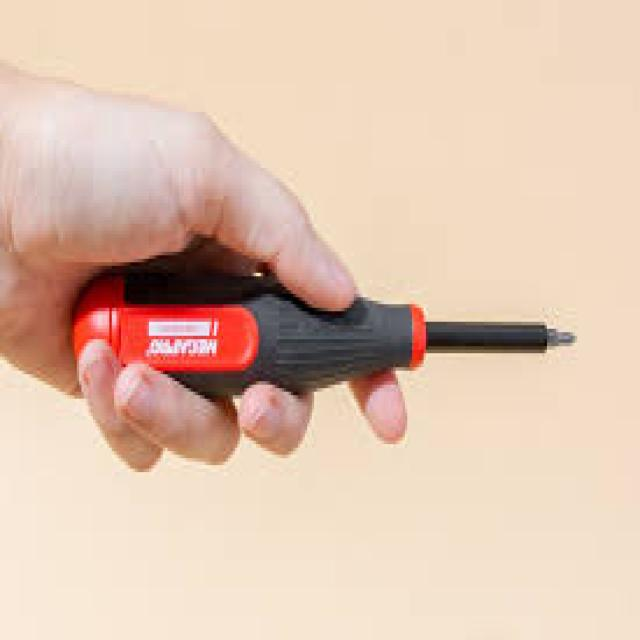Screwdriver: (75, 265, 575, 395)
